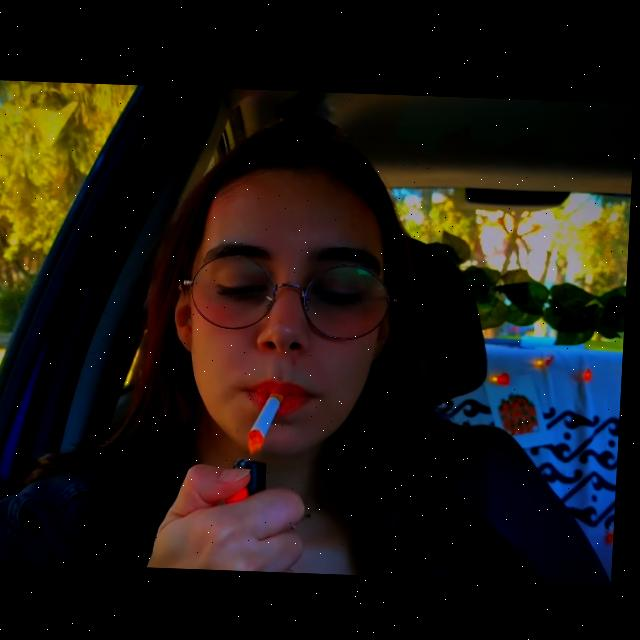cigarette: (254, 389, 289, 442)
